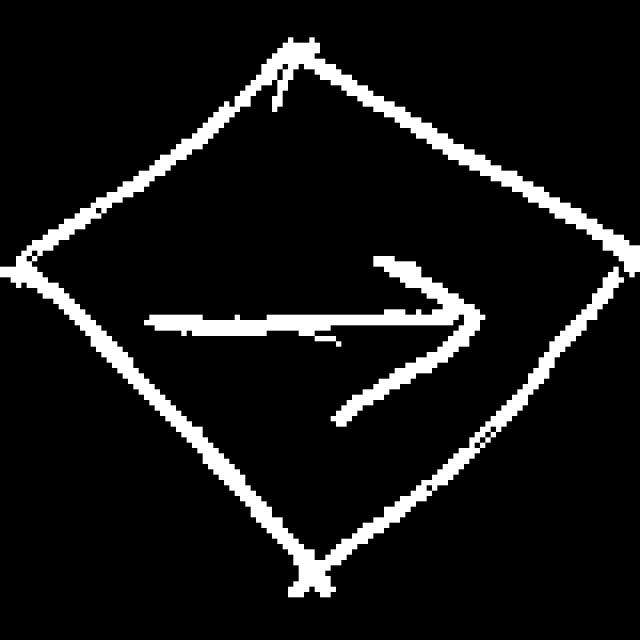dependant_current: (13, 22, 638, 572)
